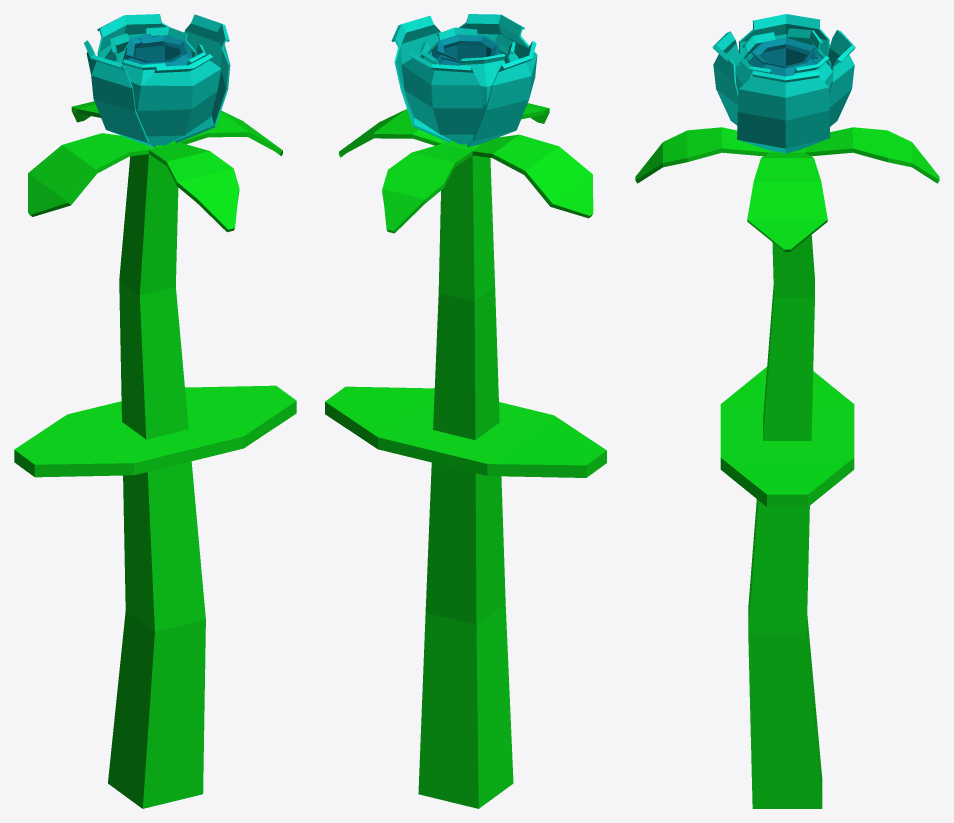
File: rose blue.fbx
3 views of the same model, side by side, from view 1: azimuth 30°, elevation 25°; view 2: azimuth 150°, elevation 25°; view 3: azimuth 270°, elevation 25° (orthographic).
Visible parts, largest first — view 1: rose blue; view 2: rose blue; view 3: rose blue.
Part boxes in pixels (x1,y1,x2,y2): rose blue: [14, 14, 296, 808]; rose blue: [325, 14, 606, 808]; rose blue: [635, 14, 939, 808].
Bounding box in the file's own units: 21.41 × 58.55 × 21.55.
